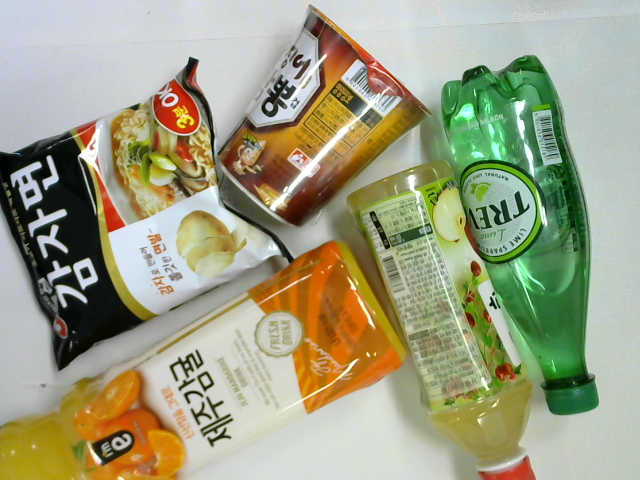Jeju_Tangerine_1.5L: (1, 233, 411, 480)
Morning_Apple_500ml: (346, 163, 539, 480)
Ojjam: (214, 2, 433, 230)
Potato: (1, 57, 297, 376)
Treviraim_500ml: (438, 53, 601, 416)
